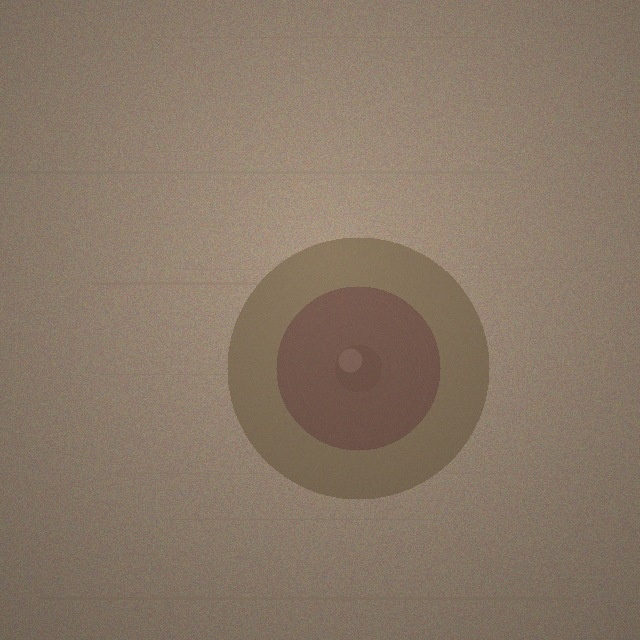good: (227, 237, 489, 499)
